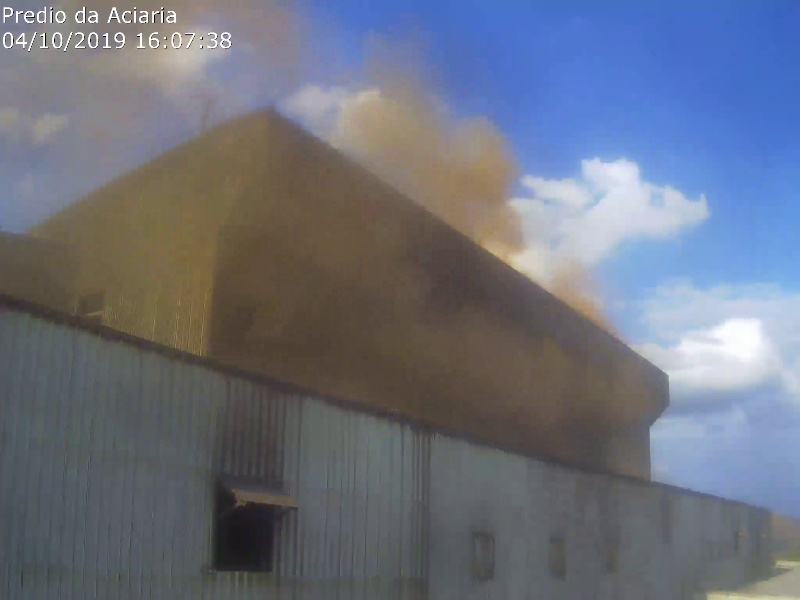bom: (555, 1, 800, 242), (640, 245, 800, 477)
pessimo: (1, 2, 527, 409)
ruim: (546, 263, 624, 423)
